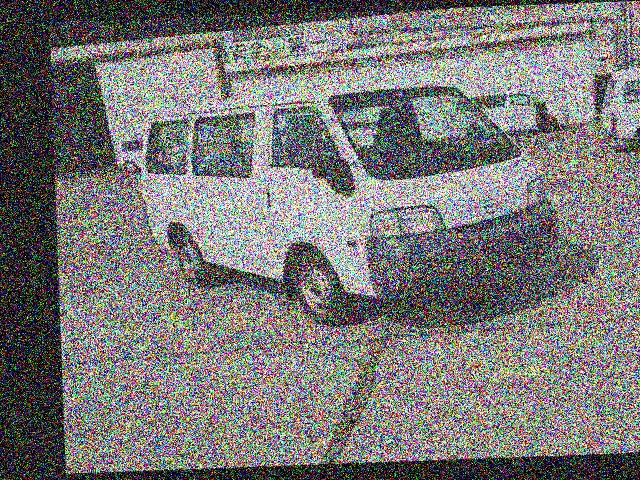van: (138, 66, 570, 329)
